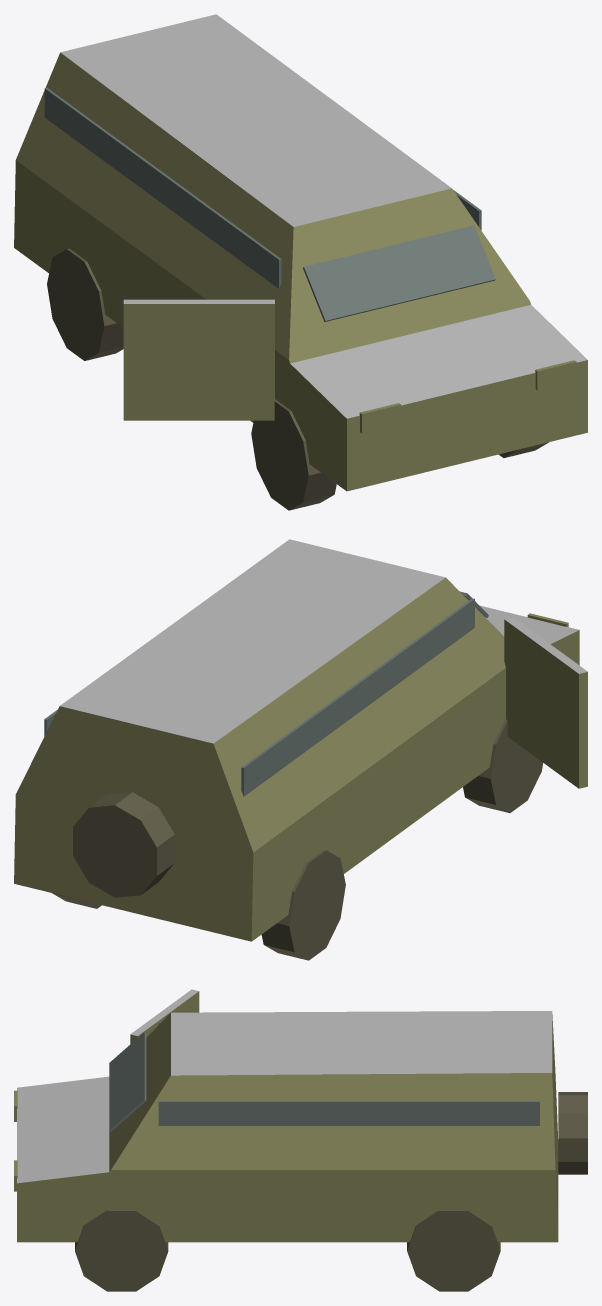
Rendered from SM_CocheCivil_Todoterreno_v1_LOD0.fbx.
3 views of the same model, one above another, from view 1: azimuth 30°, elevation 25°; view 2: azimuth 150°, elevation 25°; view 3: azimuth 270°, elevation 25° (orthographic). The views are drawn at different scales.
Parts seen in each view (by area): view 1: SM_coche_civil_v16_LOD0; view 2: SM_coche_civil_v16_LOD0; view 3: SM_coche_civil_v16_LOD0.
Part boxes in pixels (left/top/right/bottom): SM_coche_civil_v16_LOD0: left=14, top=14, right=587, bottom=510; SM_coche_civil_v16_LOD0: left=14, top=539, right=587, bottom=960; SM_coche_civil_v16_LOD0: left=14, top=989, right=587, bottom=1291.
Bounding box in the file's own units: 2.74 × 1.8 × 4.66.
